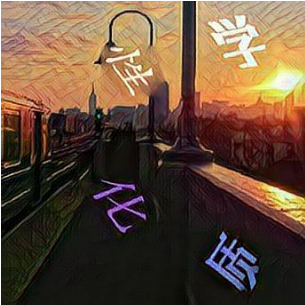hanzi: (198, 226, 272, 301), (199, 13, 270, 79), (92, 174, 157, 241), (101, 41, 161, 104)
